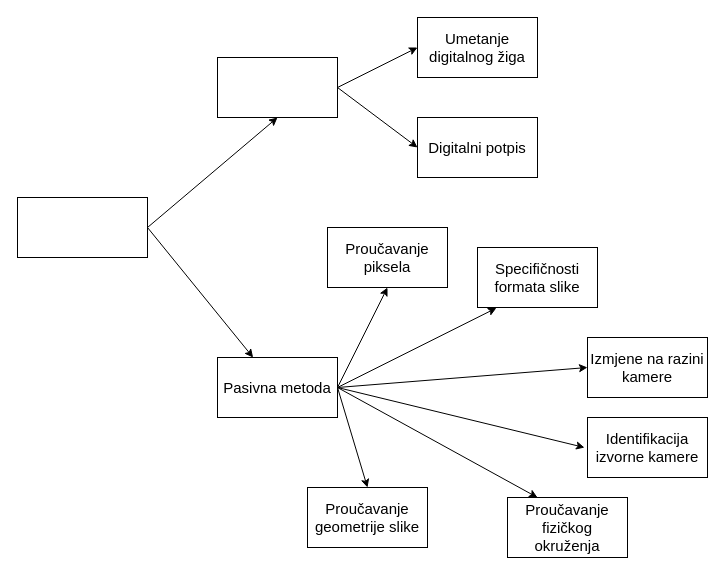
The diagram is 725 pixels wide and 575 high, and some of its shapes have lost their labels. The shapes that lost their labels are listed below. From the top down, each one's centre as x and y in pixels, then its label:
At point (277, 87): "Aktivna metoda".
At point (82, 227): "Autentikacija slika".
